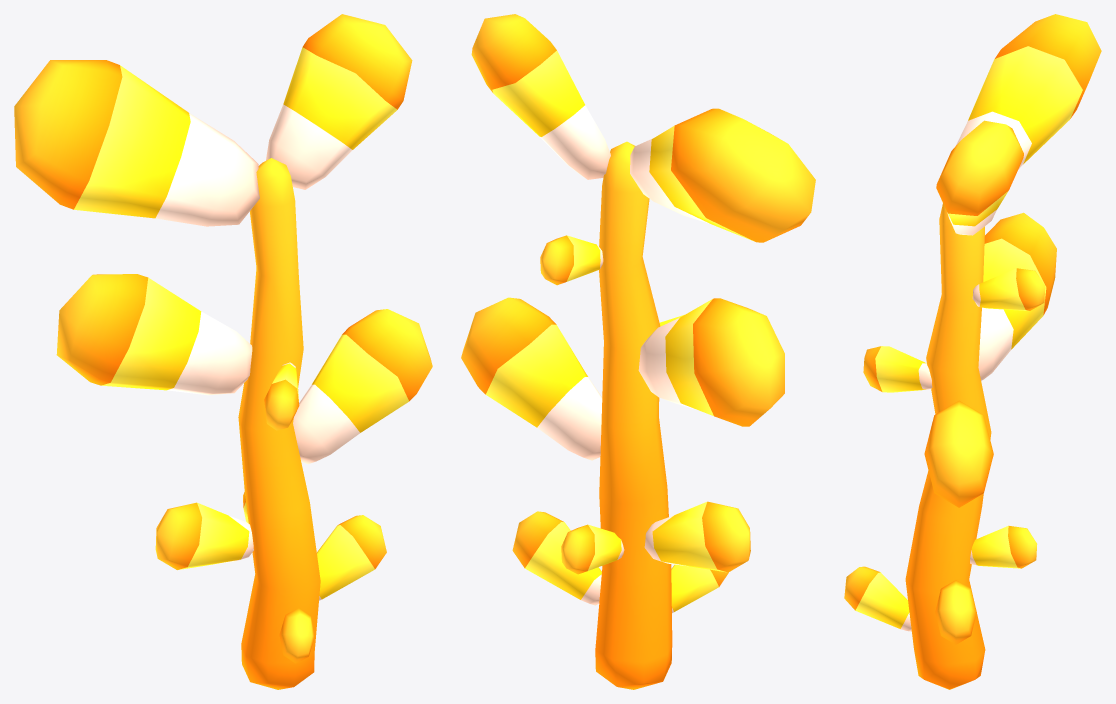
Rendered from sunlit_coral.glb.
The picture shows the model from 3 angles, left to right: view 1: azimuth 30°, elevation 25°; view 2: azimuth 150°, elevation 25°; view 3: azimuth 270°, elevation 25°; orthographic projection. The views are drawn at different scales.
Visible parts, largest first — view 1: Sunlit Coral; view 2: Sunlit Coral; view 3: Sunlit Coral.
Part boxes in pixels (x1,y1,x2,y2): Sunlit Coral: (14, 14, 432, 689); Sunlit Coral: (461, 14, 815, 689); Sunlit Coral: (844, 14, 1101, 689).
Bounding box in the file's own units: 0.9252 × 1.5 × 0.5733.
Materials: 1 (1 with a texture image).
